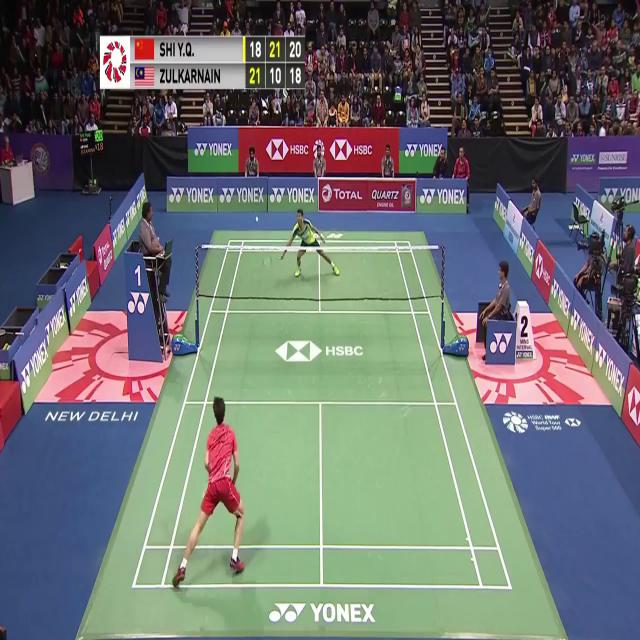Shuttlecock: (254, 213, 260, 224)
